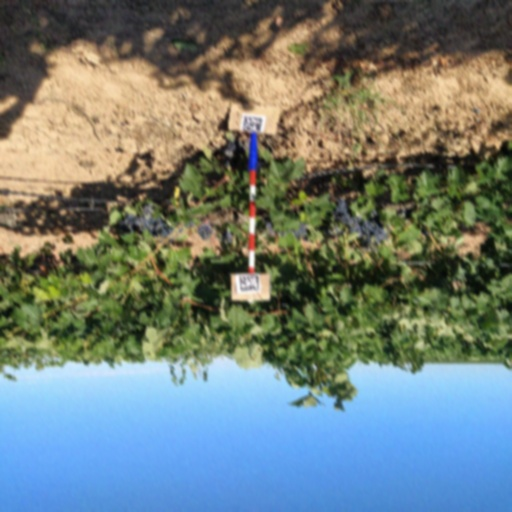QR: (243, 116, 263, 132), (241, 276, 259, 291)
